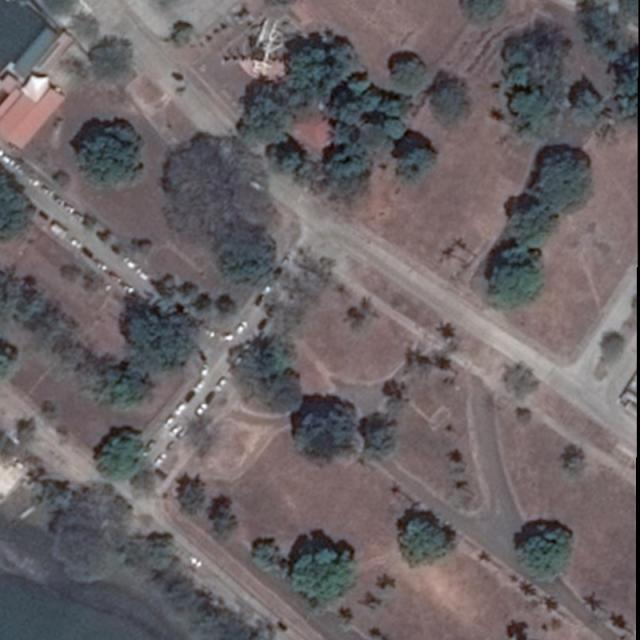vehicle: (50, 222, 67, 239), (27, 175, 41, 189), (235, 321, 249, 335), (163, 416, 178, 429), (94, 229, 107, 244), (280, 253, 293, 267), (218, 332, 235, 342), (109, 243, 122, 256), (138, 267, 150, 281), (214, 379, 228, 391), (263, 281, 274, 296), (173, 404, 186, 416), (155, 453, 167, 466), (42, 185, 55, 197), (1, 154, 14, 166), (197, 402, 208, 416), (204, 391, 215, 405), (203, 326, 217, 337), (110, 271, 122, 283), (184, 390, 196, 402), (193, 378, 204, 391), (257, 318, 268, 331), (70, 238, 82, 249), (125, 257, 136, 269), (74, 212, 86, 223), (171, 425, 182, 437), (14, 166, 27, 176), (274, 267, 282, 283), (267, 304, 276, 318), (122, 283, 134, 293), (255, 295, 265, 307), (96, 261, 107, 271), (54, 195, 64, 206), (199, 363, 208, 375), (82, 247, 91, 258), (64, 205, 75, 214)
